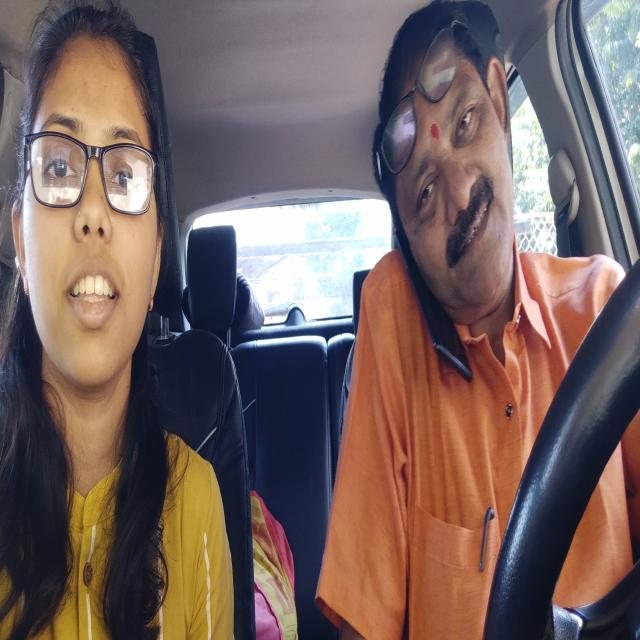mobile: (390, 228, 474, 378)
person: (12, 8, 168, 426), (382, 8, 522, 384)
